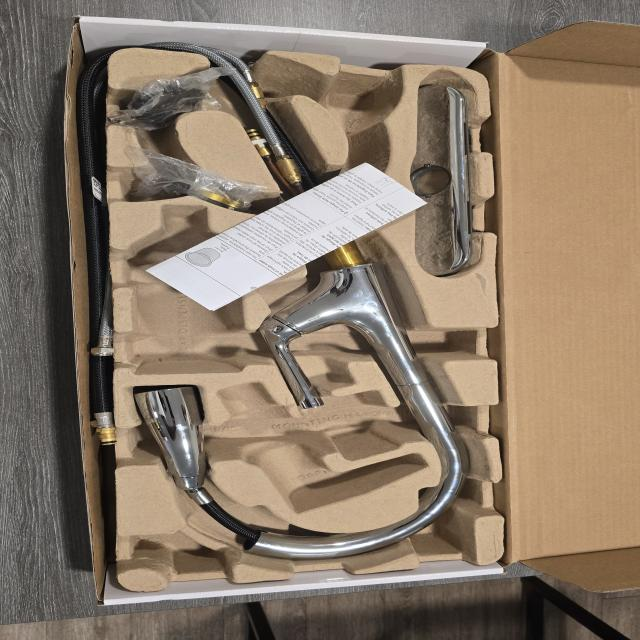1o: (135, 48, 472, 559)
2m: (219, 381, 428, 514)
3m: (125, 203, 247, 374)
4: (411, 84, 469, 277)
5m: (323, 83, 390, 130)
6: (126, 143, 281, 210)
7: (103, 63, 241, 131)
8: (142, 161, 429, 314)
